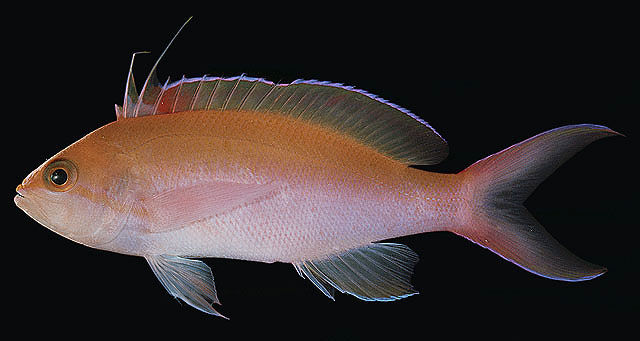fish: (13, 16, 625, 320)
